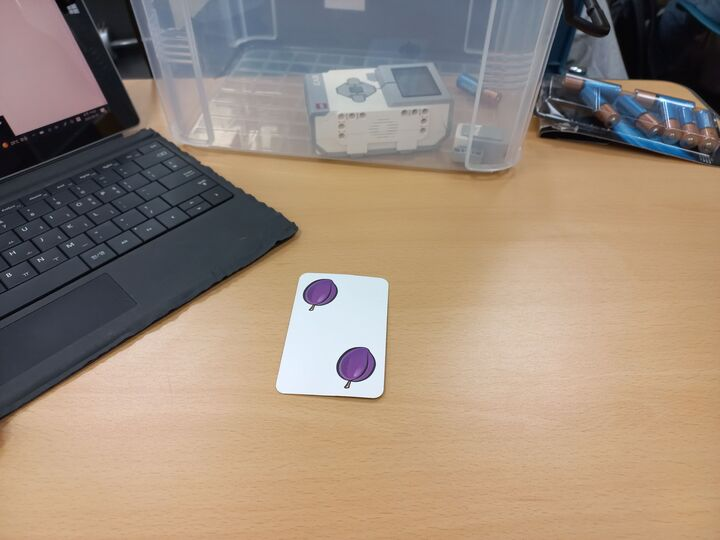plum2: (274, 271, 389, 400)
